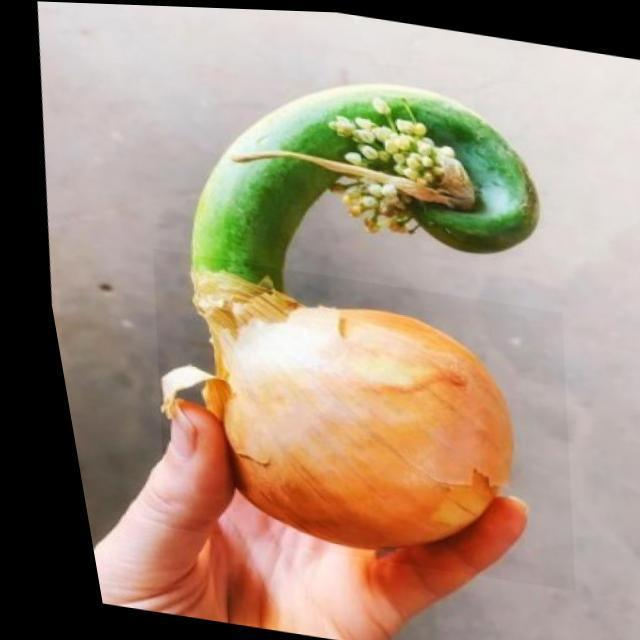Onion: (110, 246, 589, 588)
